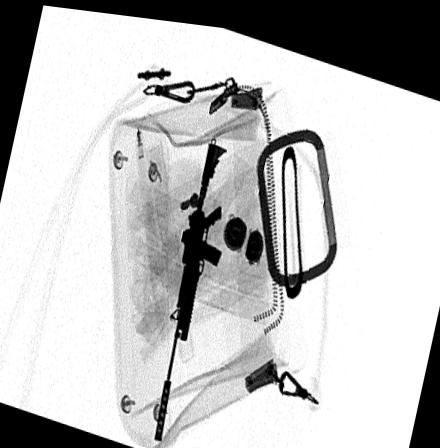Gun: (152, 135, 227, 436)
